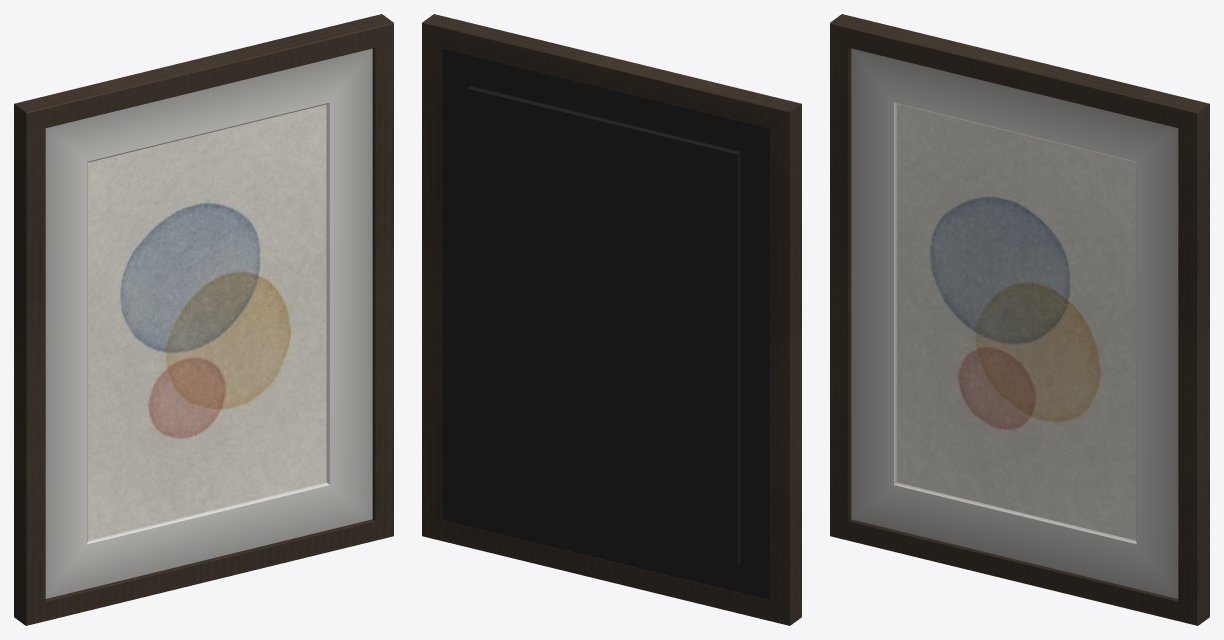
File: art_wash_circles.gltf
3 renders of one model, left to right at view 1: azimuth 30°, elevation 25°; view 2: azimuth 150°, elevation 25°; view 3: azimuth 330°, elevation 25°, orthographic.
Parts seen in each view (by area): view 1: Art_WashCircles_Art, Art_WashCircles_Mat, Art_WashCircles_Frame; view 2: Art_WashCircles_Spacer, Art_WashCircles_Frame, Art_WashCircles_Backing; view 3: Art_WashCircles_Art, Art_WashCircles_Mat, Art_WashCircles_Frame.
Part boxes in pixels (x1,y1,x2,y2): Art_WashCircles_Art: (88, 104, 326, 540); Art_WashCircles_Mat: (45, 48, 372, 598); Art_WashCircles_Frame: (14, 14, 393, 625); Art_WashCircles_Spacer: (467, 86, 740, 565); Art_WashCircles_Frame: (422, 14, 801, 625); Art_WashCircles_Backing: (442, 48, 770, 600); Art_WashCircles_Art: (897, 104, 1135, 540); Art_WashCircles_Mat: (851, 48, 1178, 598); Art_WashCircles_Frame: (830, 14, 1209, 625).
Size of the model in its own units: 0.6 by 0.8 by 0.045.
Materials: 5 (2 with a texture image).
